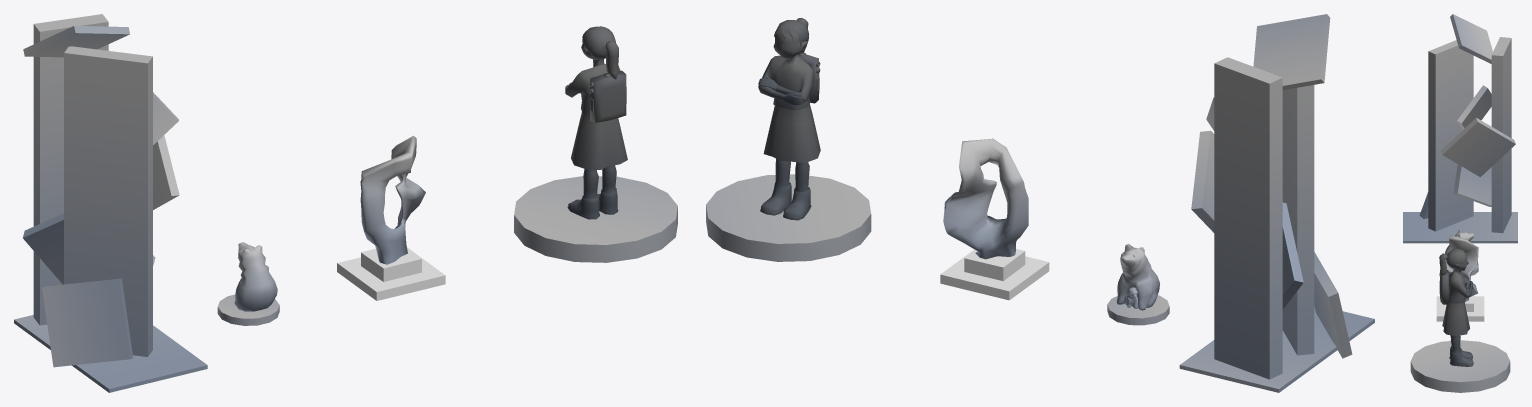
File: veistokset.fbx
3 renders of one model, left to right at view 1: azimuth 30°, elevation 25°; view 2: azimuth 150°, elevation 25°; view 3: azimuth 270°, elevation 25°, orthographic. The views are drawn at different scales.
Parts seen in each view (by area): view 1: laatat, tytto_ja_linnunpesa, lairalan_aukio_veistos, kivikarhu1; view 2: laatat, tytto_ja_linnunpesa, lairalan_aukio_veistos, kivikarhu1; view 3: laatat, tytto_ja_linnunpesa, lairalan_aukio_veistos, kivikarhu1.
Part boxes in pixels (x1=…): laatat: x1=14, y1=14, x2=207, y2=392; tytto_ja_linnunpesa: x1=514, y1=26, x2=677, y2=262; lairalan_aukio_veistos: x1=337, y1=135, x2=445, y2=300; kivikarhu1: x1=217, y1=242, x2=279, y2=325; laatat: x1=1179, y1=14, x2=1374, y2=392; tytto_ja_linnunpesa: x1=706, y1=18, x2=871, y2=261; lairalan_aukio_veistos: x1=940, y1=138, x2=1049, y2=300; kivikarhu1: x1=1107, y1=244, x2=1169, y2=325; laatat: x1=1403, y1=14, x2=1517, y2=243; tytto_ja_linnunpesa: x1=1410, y1=248, x2=1510, y2=392; lairalan_aukio_veistos: x1=1436, y1=235, x2=1484, y2=321; kivikarhu1: x1=1445, y1=229, x2=1478, y2=275.
Size of the model in its own units: 55.75 by 28.83 by 14.75.
